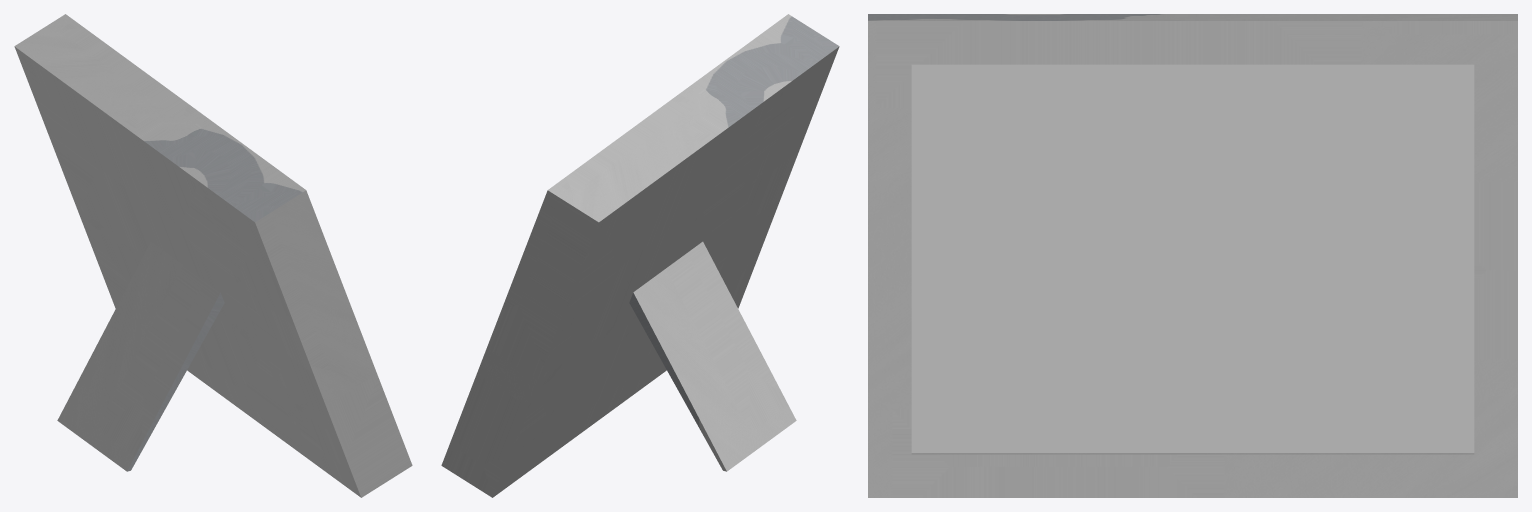
File: Photo.fbx
3 views of the same model, side by side, from view 1: azimuth 30°, elevation 25°; view 2: azimuth 150°, elevation 25°; view 3: azimuth 270°, elevation 25° (orthographic). The views are drawn at different scales.
Visible parts, largest first — view 1: Photo; view 2: Photo; view 3: Picture, Photo.
Part boxes in pixels (<box>): Photo: <box>14,14,412,497</box>; Photo: <box>441,14,839,497</box>; Picture: <box>911,64,1474,452</box>; Photo: <box>868,14,1517,497</box>.
Size of the model in its own units: 69.49 by 107 by 145.
